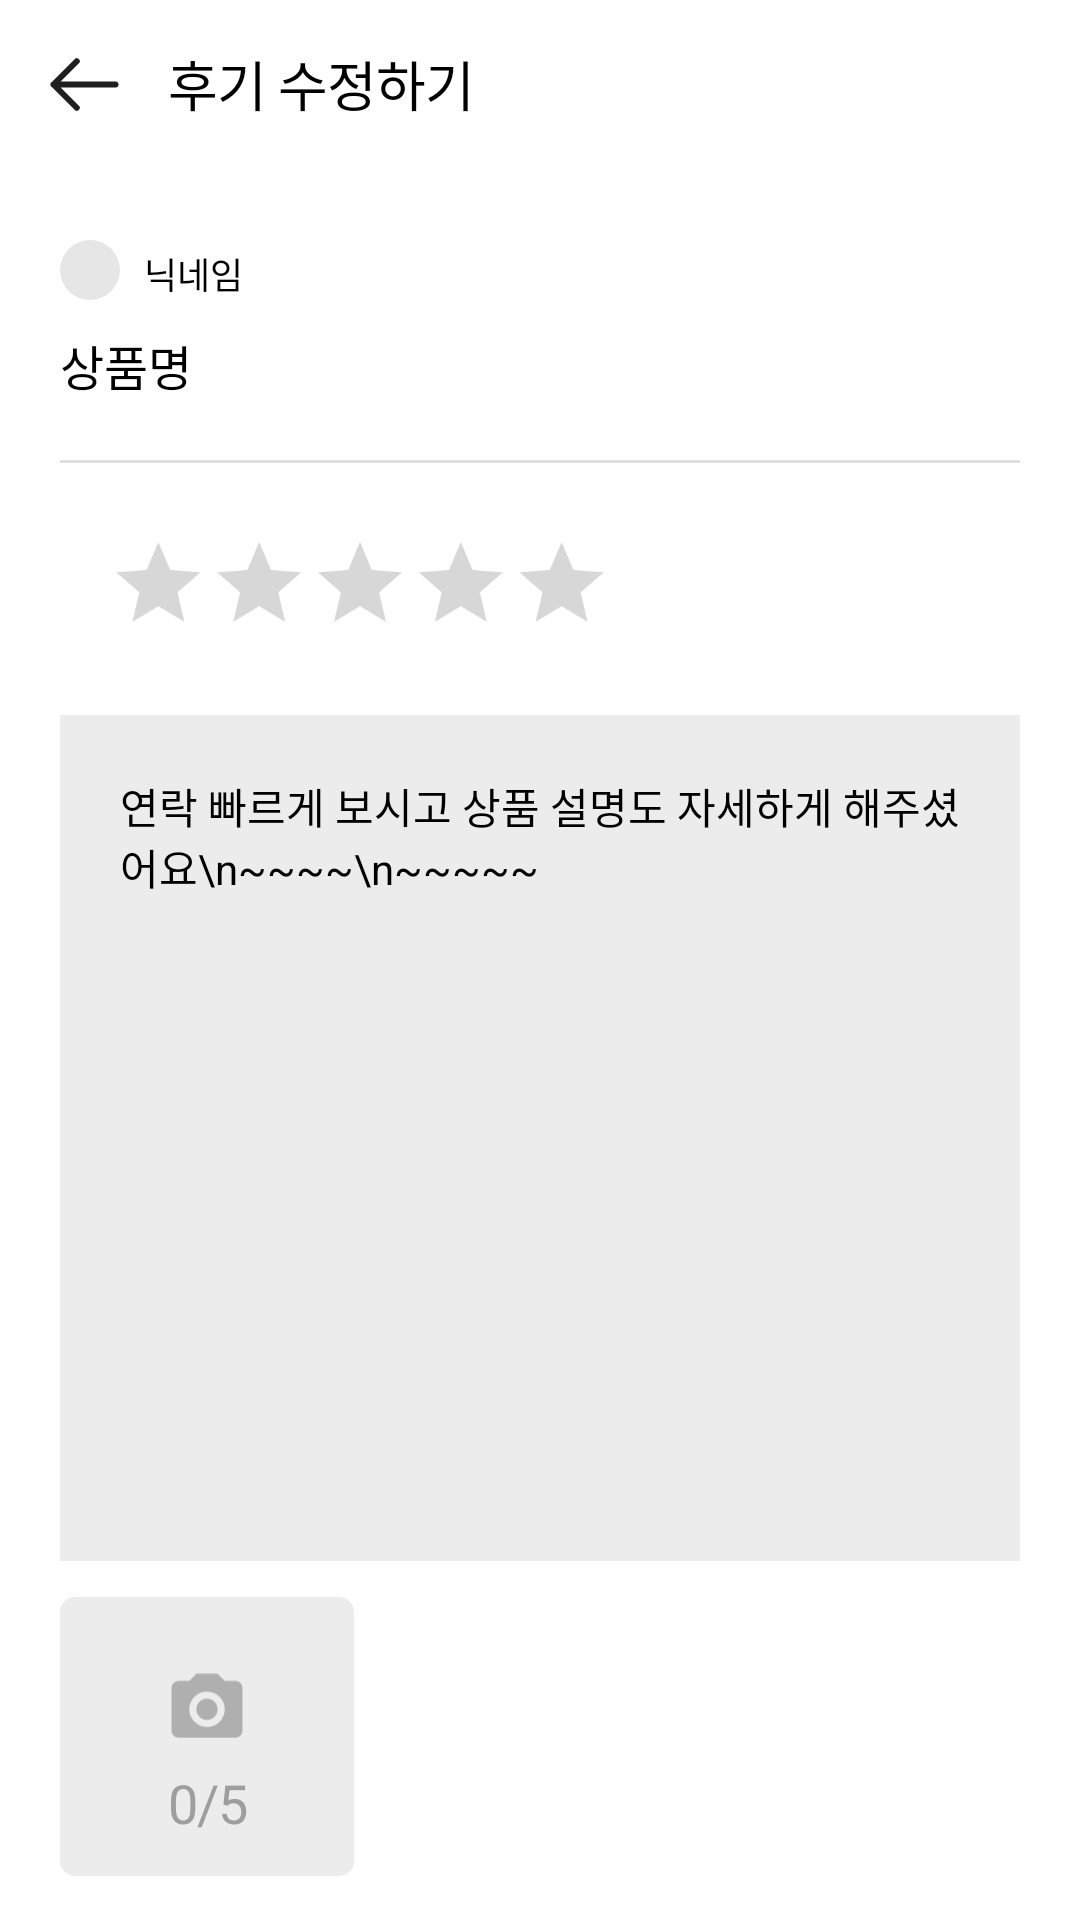

Icon bounding boxes for this 1080*1920 phone screenshot, format (x1=x1, y1=y1, x2=x2, y2=y2):
camera: (x1=171, y1=1673, x2=243, y2=1738)
